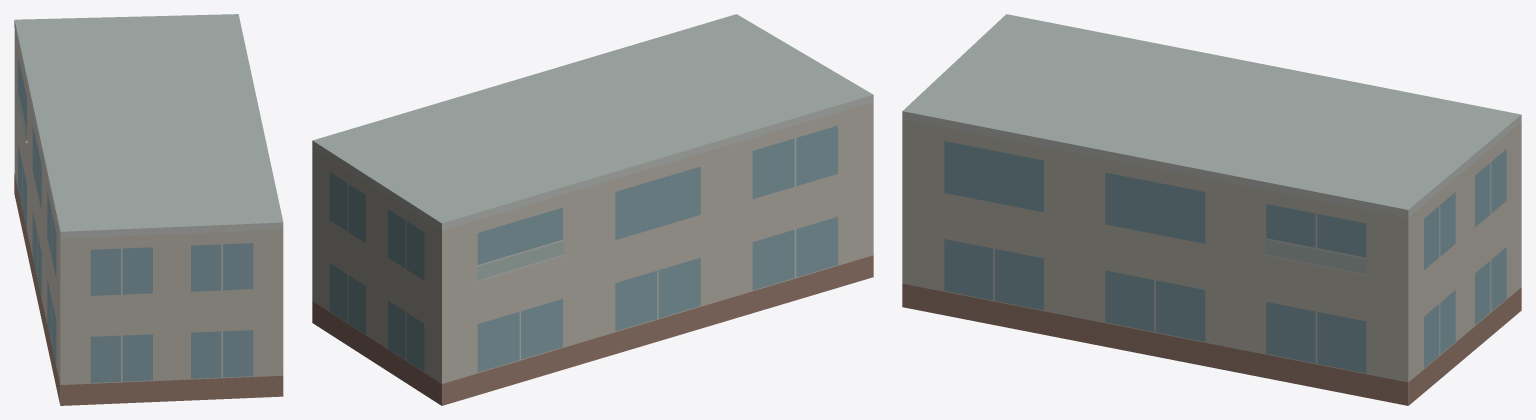
Rendered from survey-upis-32720692.glb.
The picture shows the model from 3 angles, left to right: view 1: azimuth 30°, elevation 25°; view 2: azimuth 150°, elevation 25°; view 3: azimuth 270°, elevation 25°; orthographic projection. The views are drawn at different scales.
Visible parts, largest first — view 1: survey-upis-32720692.tmp; view 2: survey-upis-32720692.tmp; view 3: survey-upis-32720692.tmp.
Part boxes in pixels (x1,y1,x2,y2): survey-upis-32720692.tmp: (14, 14, 283, 405); survey-upis-32720692.tmp: (312, 14, 873, 405); survey-upis-32720692.tmp: (902, 14, 1521, 405).
Bounding box in the file's own units: 13.09 × 6.1 × 17.48.
